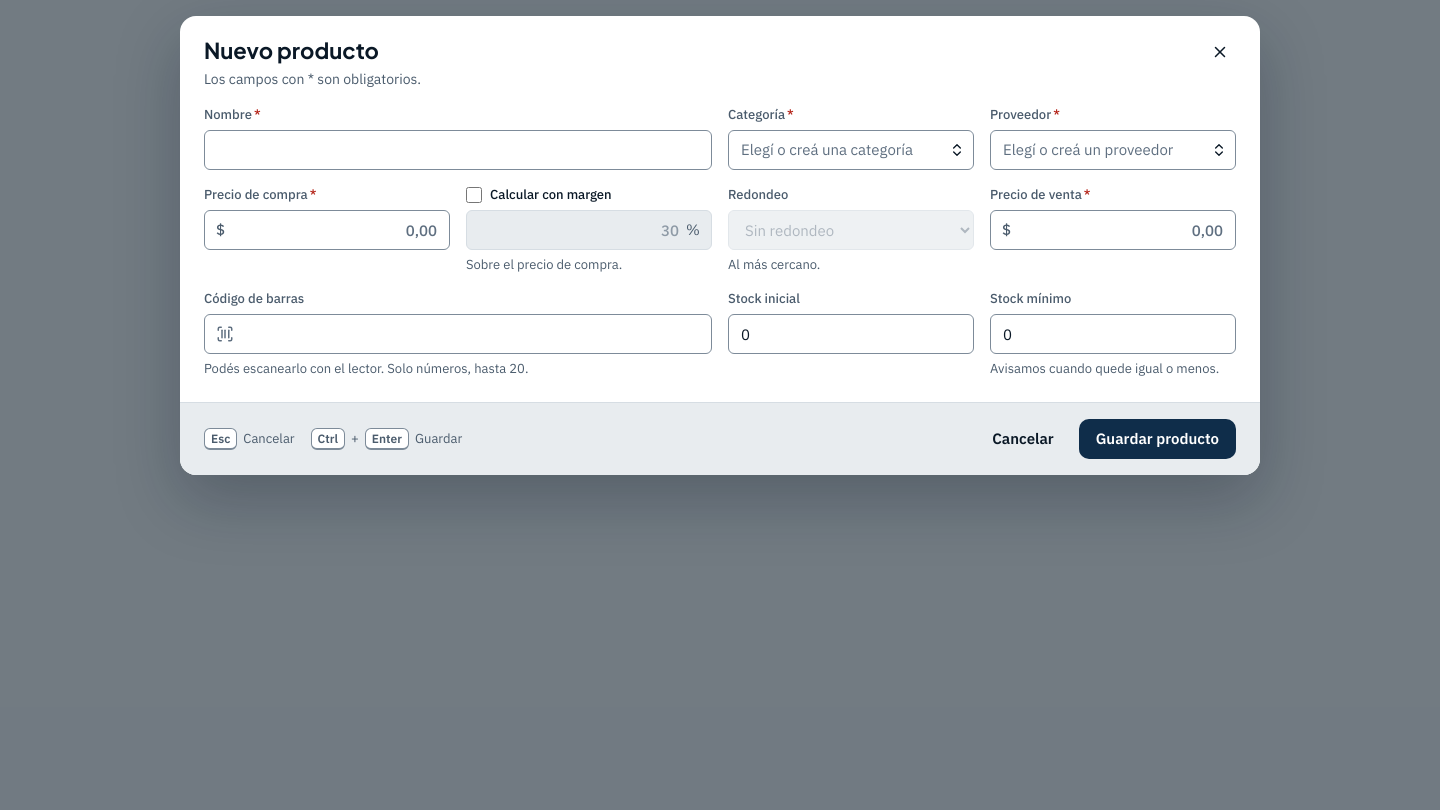
Test: Modo creación (sin product prop) › al salir de un precio se reformatea ("50" → "50,00")
Type "50" into the field labelled "Precio de compra*" at (327, 230), box [204, 210, 450, 250]
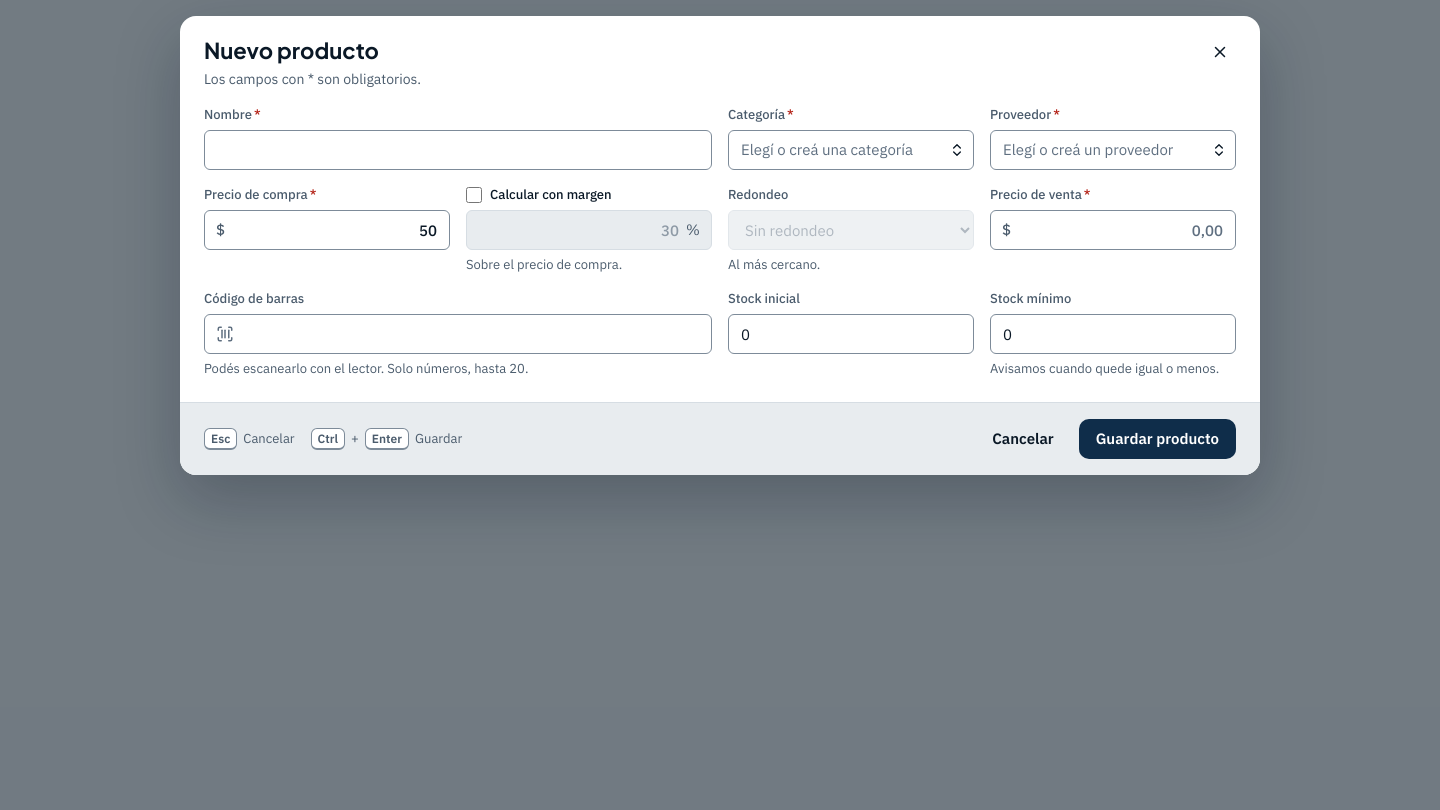
Leave the field labelled "Precio de compra*", box [204, 210, 450, 250]
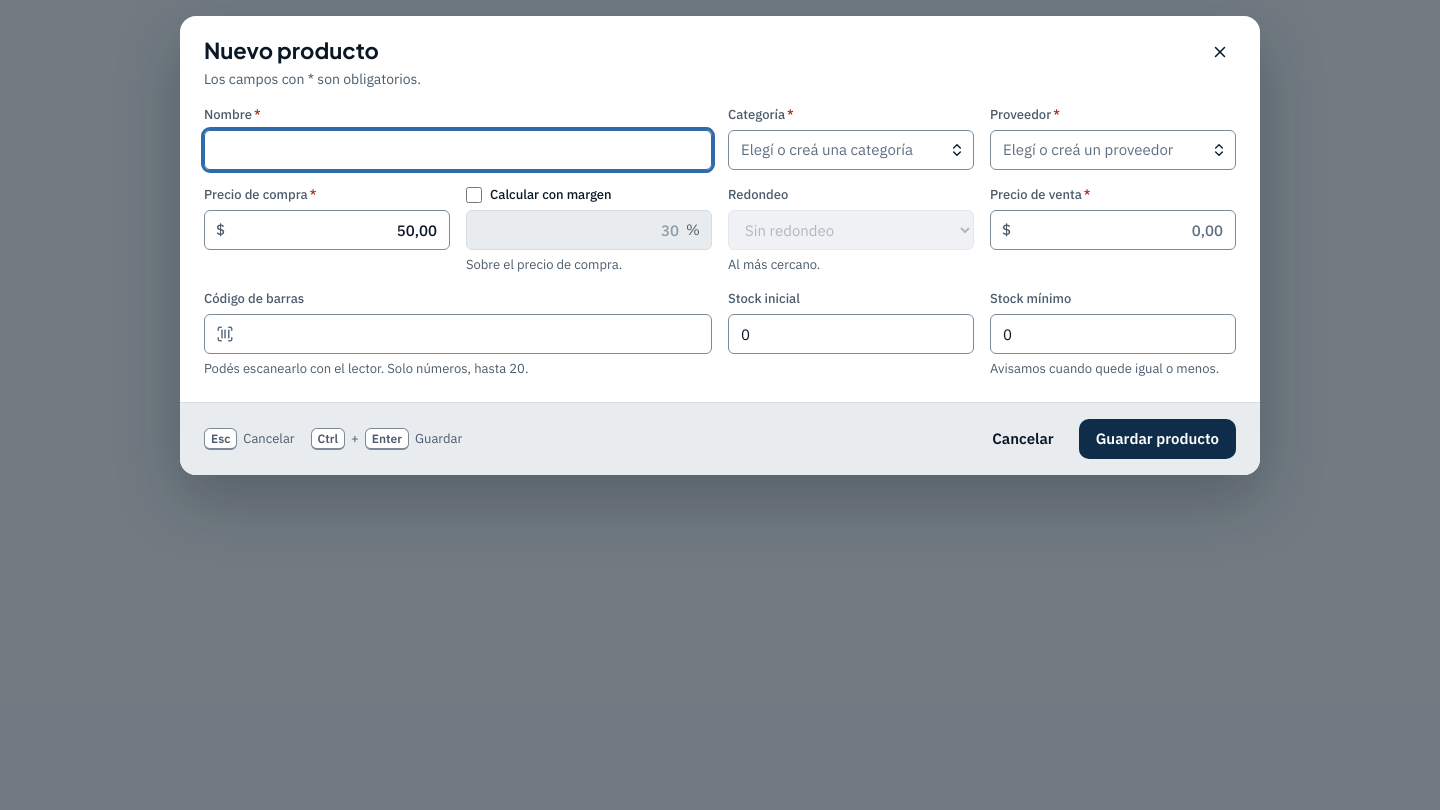
Expected: the field labelled "Precio de compra*" holds "50,00", [204, 210, 450, 250]
